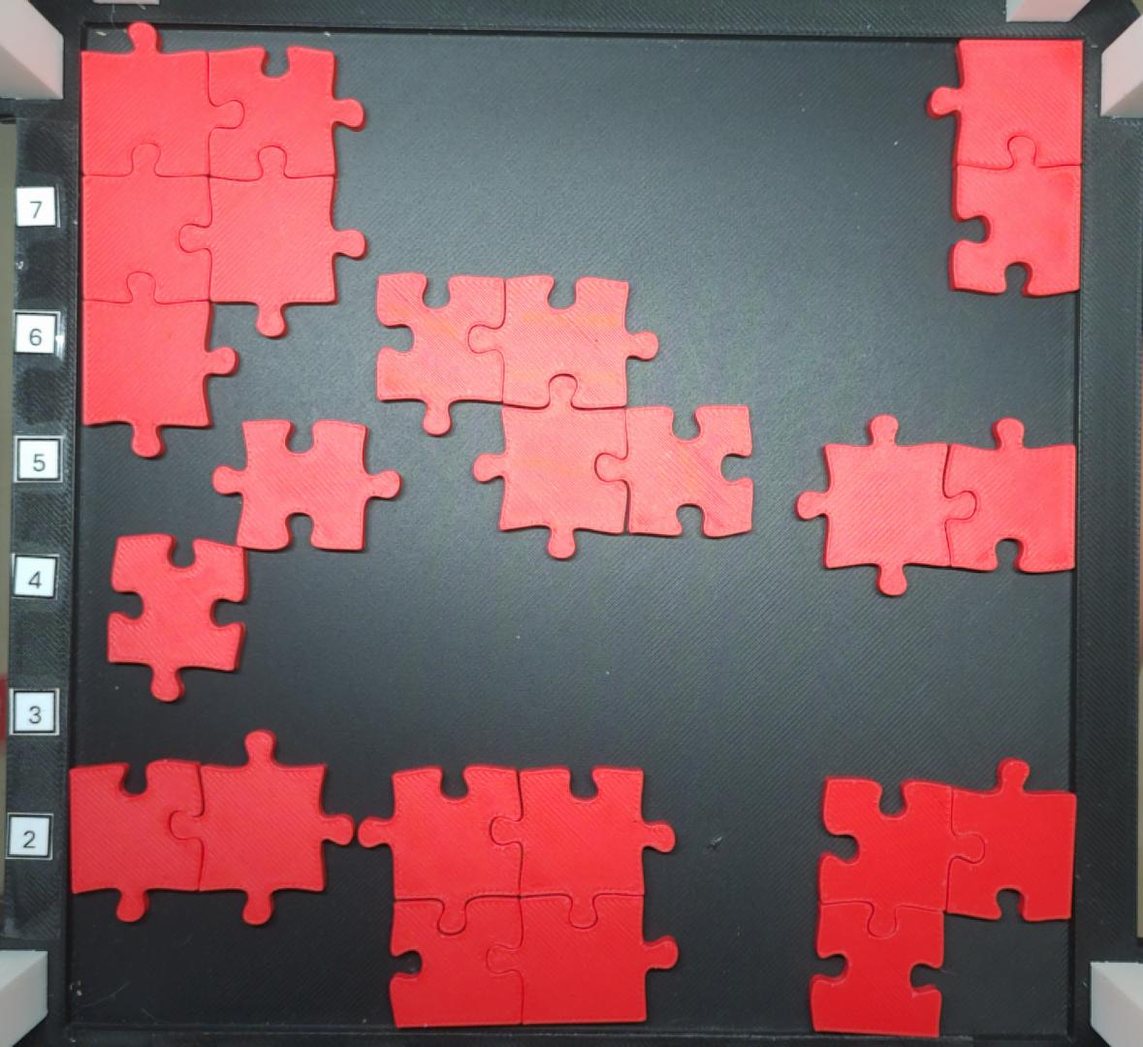p_1: (105, 529, 251, 704), (212, 423, 401, 553)
p_2: (66, 731, 352, 926), (794, 413, 1077, 598), (923, 35, 1085, 301)
p_3: (810, 757, 1077, 1039)
p_4: (372, 273, 757, 562), (357, 762, 681, 1031)
p_m: (77, 20, 366, 462)
